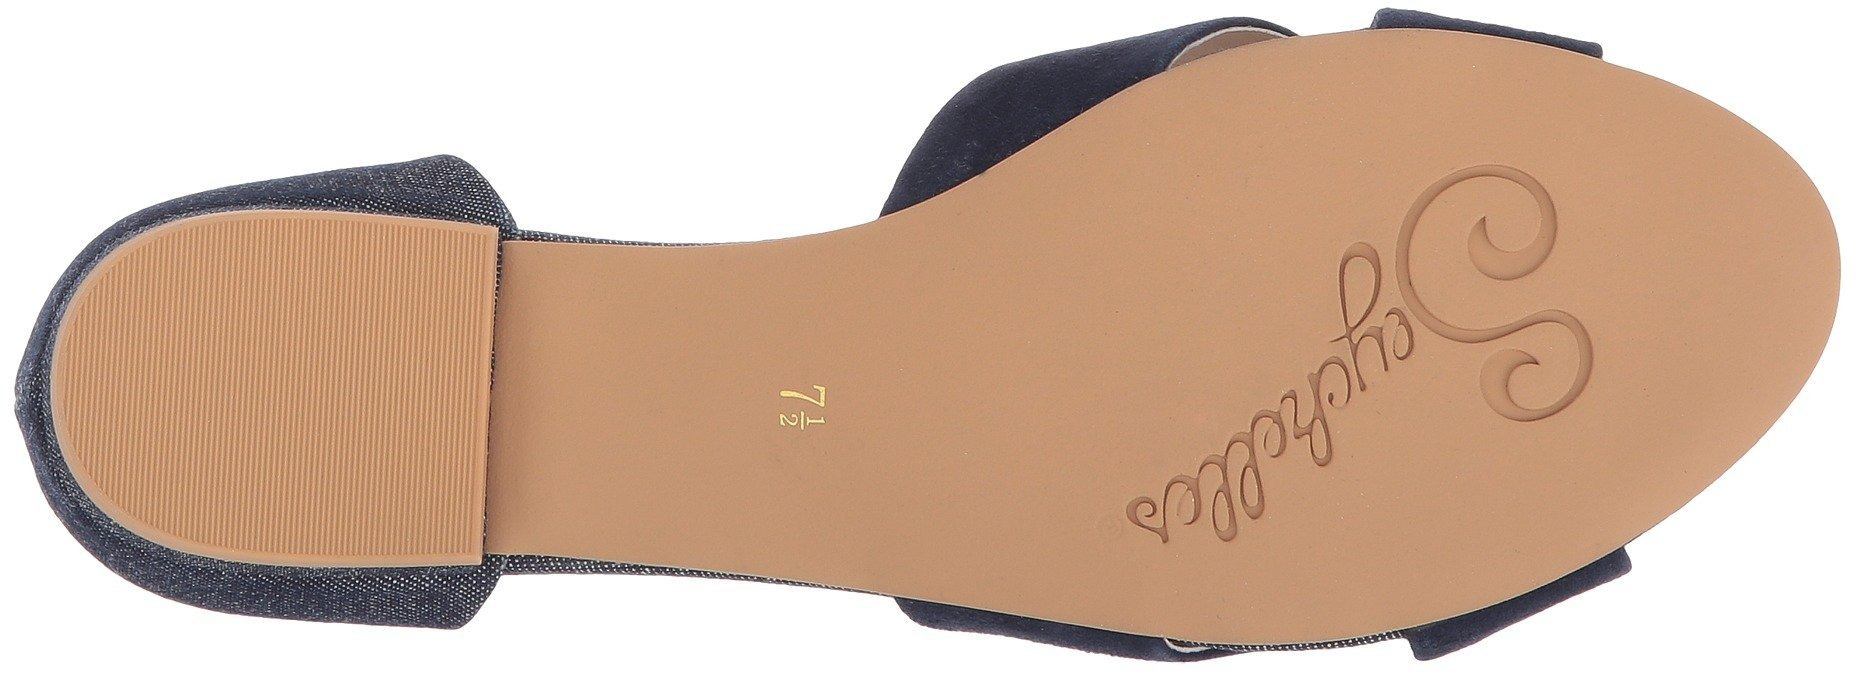other: (188, 255, 476, 548), (1022, 175, 1272, 416), (527, 270, 756, 488), (1588, 183, 1797, 395), (910, 401, 1096, 596), (63, 329, 182, 444)
text: (1272, 156, 1618, 472), (1124, 408, 1310, 558), (761, 367, 888, 444)
